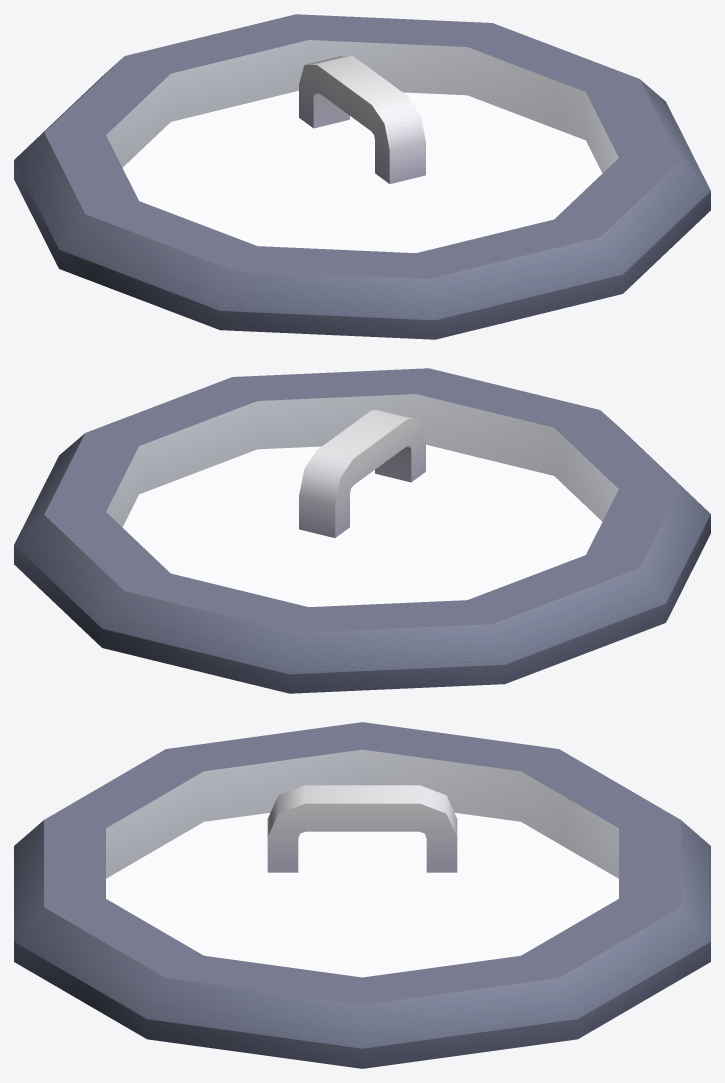
Rendered from pot-stew-lid.glb.
3 renders of one model, top to bottom at view 1: azimuth 30°, elevation 25°; view 2: azimuth 150°, elevation 25°; view 3: azimuth 270°, elevation 25°, orthographic. The views are drawn at different scales.
Visible parts, largest first — view 1: pot-stew-lid, (%ignore); view 2: pot-stew-lid, (%ignore); view 3: pot-stew-lid, (%ignore).
Boxes of the visible parts, x1=… form: pot-stew-lid: x1=14, y1=14, x2=710, y2=339; (%ignore): x1=106, y1=40, x2=618, y2=252; pot-stew-lid: x1=14, y1=368, x2=710, y2=693; (%ignore): x1=106, y1=394, x2=618, y2=606; pot-stew-lid: x1=14, y1=722, x2=710, y2=1068; (%ignore): x1=106, y1=749, x2=618, y2=977.
Size of the model in its own units: 0.6574 by 0.1184 by 0.6253.
Materials: 2 (1 with a texture image).
